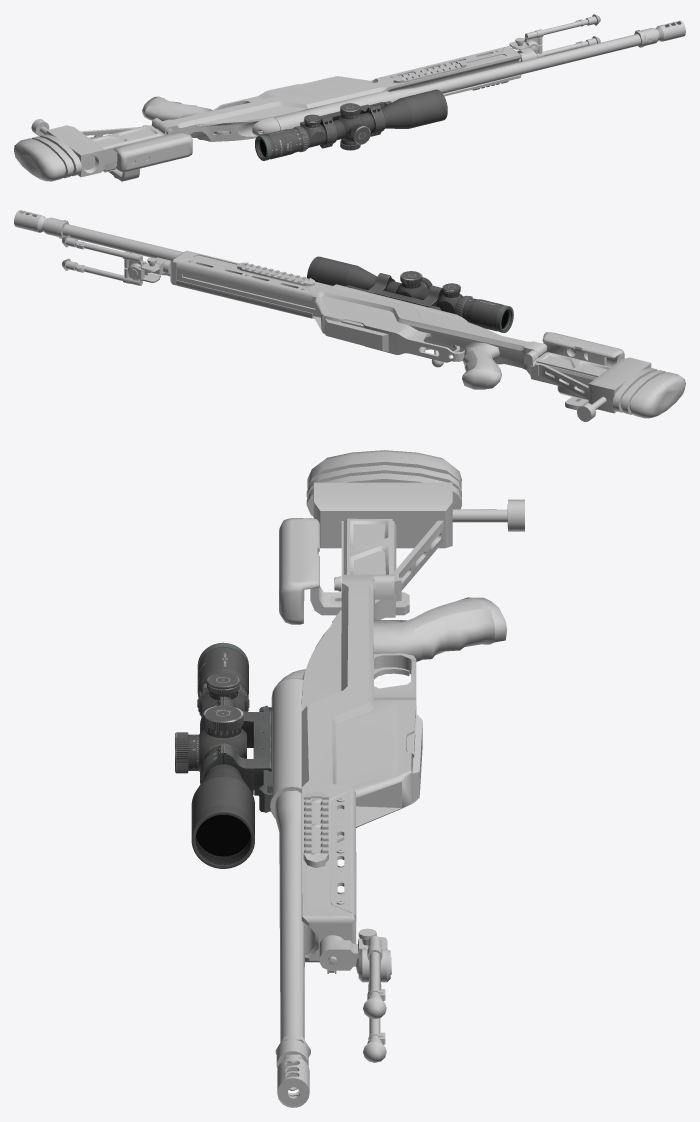
Rendered from weapon_snip_ssg08.gltf.
The picture shows the model from 3 angles, top to bottom: view 1: azimuth 30°, elevation 25°; view 2: azimuth 150°, elevation 25°; view 3: azimuth 270°, elevation 25°; orthographic projection. The views are drawn at different scales.
Visible parts, largest first — view 1: legacy; view 2: legacy; view 3: legacy.
Boxes of the visible parts, left/top/right/bottom form: legacy: left=14, top=14, right=685, bottom=181; legacy: left=14, top=210, right=685, bottom=421; legacy: left=175, top=450, right=524, bottom=1107.
Size of the model in its own units: 148 by 11.47 by 35.51.
